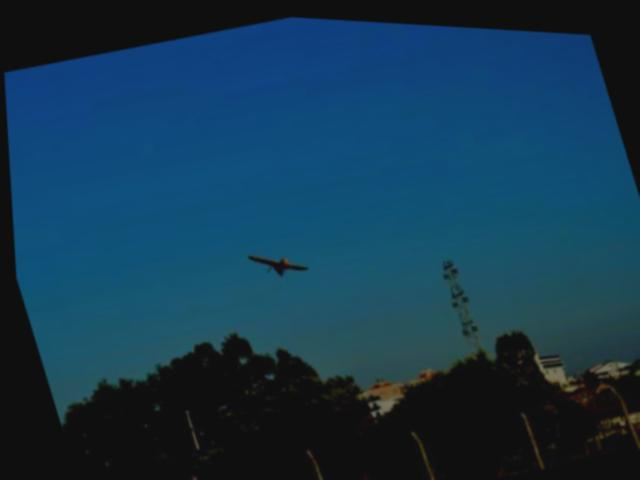iha: (244, 240, 305, 281)
